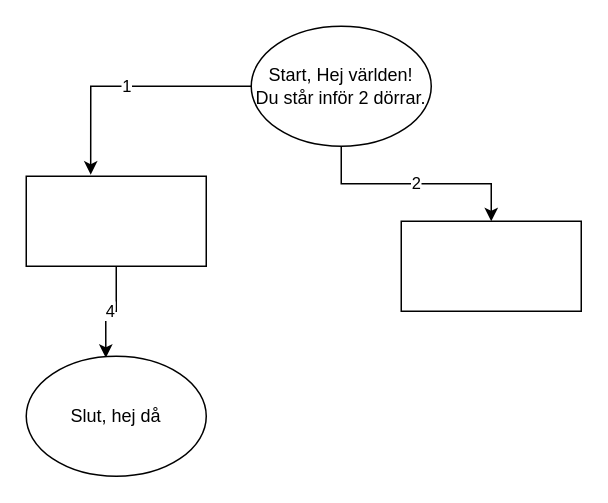
This 608x503 diagram has some shape labels left out. Each missing label, with the centre of its shape:
Monstret äter dig: the point at 115,220
Yay kaka!: the point at 490,265
